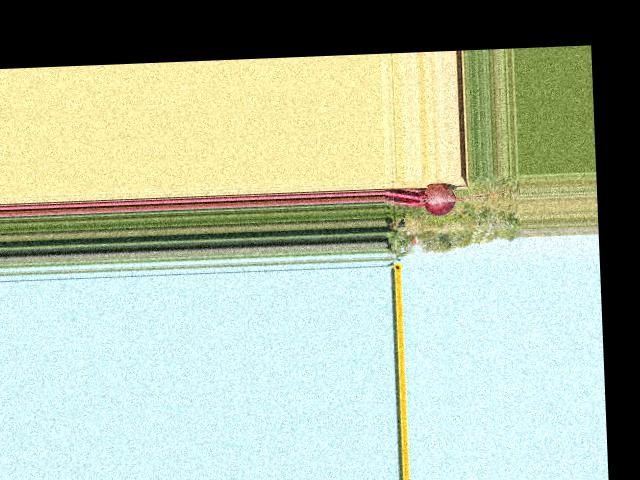beet: (382, 180, 516, 217)
